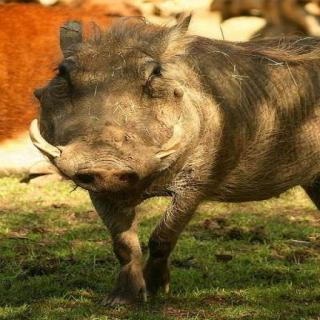Pig: (28, 2, 320, 286)
